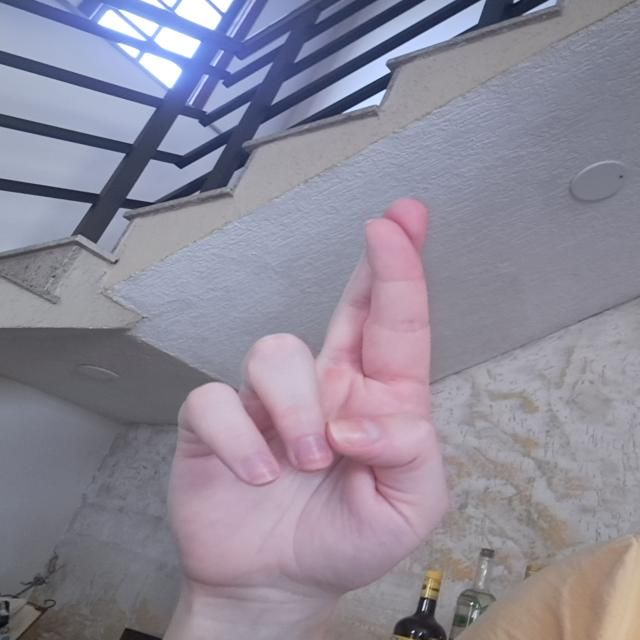R: (167, 194, 463, 582)
